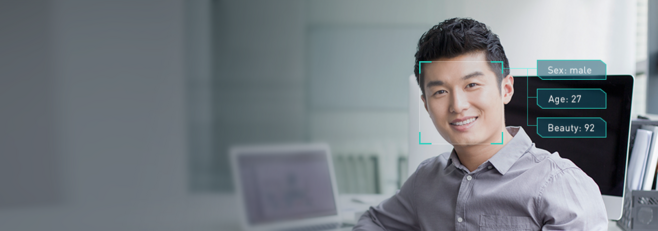no_mask: (419, 52, 505, 148)
